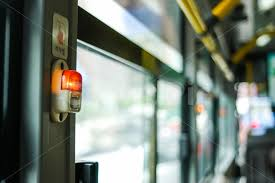bell: (52, 58, 85, 126)
